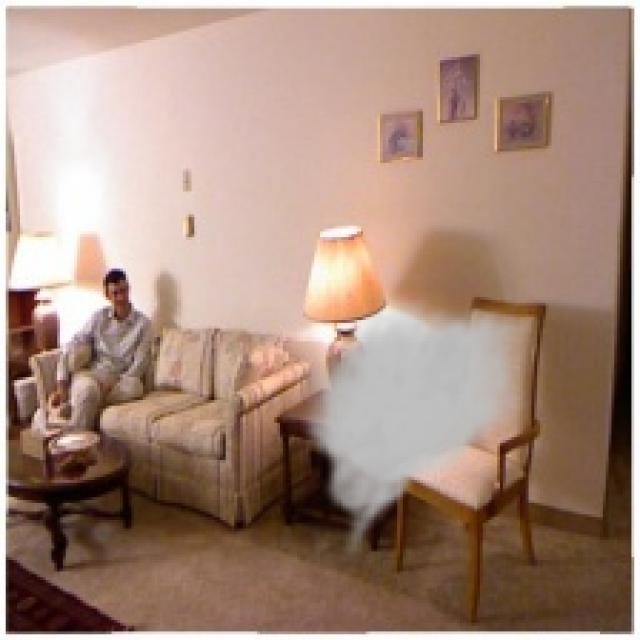smoke: (297, 294, 534, 566)
